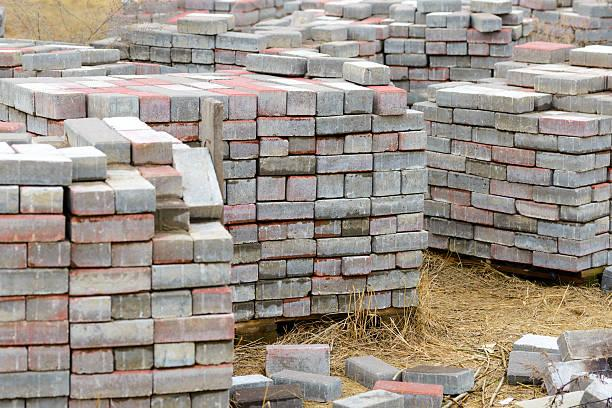Bricks: (171, 147, 220, 206), (79, 125, 131, 166), (68, 325, 154, 349), (152, 319, 235, 343), (120, 126, 173, 163), (75, 374, 154, 398), (71, 217, 153, 240), (71, 269, 151, 291), (153, 266, 232, 288), (5, 215, 66, 242), (1, 269, 68, 293), (1, 374, 70, 397), (269, 351, 330, 377), (0, 322, 71, 344), (0, 163, 70, 185), (35, 90, 85, 120), (438, 91, 523, 108), (149, 288, 197, 318), (86, 94, 139, 118), (22, 295, 73, 319), (68, 296, 111, 324), (542, 114, 612, 131), (64, 113, 111, 138), (154, 372, 227, 388), (310, 218, 370, 237), (72, 189, 115, 215), (559, 94, 612, 115), (23, 186, 64, 213), (72, 245, 112, 270), (116, 186, 154, 212), (182, 219, 229, 240), (171, 95, 203, 125), (319, 200, 372, 218), (571, 45, 612, 68), (256, 170, 285, 202), (31, 346, 69, 370), (71, 153, 106, 179), (214, 79, 279, 93), (71, 353, 116, 373), (130, 82, 190, 97), (111, 295, 150, 318), (197, 238, 232, 263), (540, 220, 607, 233), (514, 199, 557, 219), (455, 140, 492, 163), (230, 94, 260, 122), (114, 242, 150, 265), (197, 292, 231, 316), (155, 209, 189, 233), (138, 98, 172, 122), (156, 238, 193, 260), (251, 80, 309, 94), (515, 43, 562, 60), (318, 154, 371, 169), (348, 358, 384, 380), (537, 189, 589, 204), (32, 245, 69, 266), (116, 349, 152, 370), (373, 157, 420, 173), (255, 91, 286, 115), (494, 145, 533, 164), (452, 203, 495, 220), (260, 155, 316, 168), (373, 199, 425, 213), (28, 53, 80, 67), (264, 205, 312, 220), (510, 165, 546, 185), (538, 153, 593, 166), (311, 277, 362, 291), (256, 285, 315, 297), (249, 56, 296, 71), (320, 116, 370, 130), (262, 120, 315, 133), (535, 78, 578, 94), (424, 26, 467, 42), (563, 135, 612, 149), (147, 178, 183, 197), (223, 118, 259, 137), (518, 131, 556, 149), (432, 184, 468, 203), (155, 347, 195, 364), (472, 125, 512, 142), (451, 107, 496, 122), (110, 175, 152, 191), (451, 174, 490, 191), (427, 155, 471, 170), (498, 113, 539, 129), (450, 240, 488, 257), (431, 218, 474, 233), (517, 234, 557, 250), (163, 83, 226, 93), (289, 92, 314, 117), (2, 245, 26, 271), (472, 192, 511, 208), (316, 90, 343, 113), (265, 227, 312, 240), (372, 217, 419, 230), (507, 66, 537, 86), (498, 215, 535, 231), (317, 241, 374, 251), (377, 236, 424, 248), (198, 344, 231, 361), (561, 208, 612, 219), (477, 226, 510, 243), (340, 294, 368, 314), (134, 30, 169, 46), (535, 256, 585, 267), (306, 59, 348, 72), (0, 349, 27, 369), (15, 85, 35, 112), (468, 164, 509, 177), (260, 139, 288, 158), (219, 35, 257, 49), (347, 93, 370, 116), (321, 175, 344, 198), (376, 91, 400, 113), (377, 117, 425, 128), (225, 161, 258, 177), (231, 180, 255, 202), (492, 245, 525, 261), (418, 0, 462, 12), (356, 67, 385, 85), (0, 186, 20, 212), (290, 178, 316, 198), (289, 135, 315, 155), (491, 182, 531, 195), (470, 29, 507, 43), (469, 0, 512, 12), (0, 301, 27, 320), (264, 242, 315, 252), (173, 33, 212, 46), (27, 117, 51, 138), (403, 173, 429, 192), (385, 55, 429, 66), (346, 175, 366, 199), (229, 227, 259, 243), (437, 124, 471, 138), (376, 176, 399, 196), (367, 290, 394, 307), (281, 300, 311, 315), (556, 171, 606, 180), (559, 239, 609, 248), (345, 136, 374, 151), (368, 278, 416, 287), (179, 22, 212, 35), (430, 55, 469, 66), (231, 246, 257, 262), (286, 256, 312, 272), (327, 43, 358, 56), (448, 70, 488, 80), (318, 262, 340, 280), (259, 302, 281, 320), (372, 255, 400, 269), (311, 298, 337, 313), (190, 206, 222, 218), (291, 83, 339, 91), (309, 27, 341, 39), (268, 31, 297, 44), (262, 262, 284, 279), (225, 208, 256, 220), (472, 56, 500, 69), (149, 45, 170, 62), (396, 252, 421, 266), (351, 28, 380, 40), (371, 136, 395, 150), (447, 13, 471, 27), (84, 52, 120, 61), (318, 138, 341, 152), (232, 302, 255, 316), (430, 134, 450, 150), (445, 41, 467, 55), (235, 285, 254, 301), (207, 86, 249, 93), (192, 49, 213, 63), (341, 261, 367, 272), (405, 38, 424, 53), (401, 139, 429, 149), (480, 17, 502, 29), (489, 43, 511, 55), (129, 46, 151, 58), (236, 270, 259, 281), (384, 39, 405, 51), (214, 50, 235, 62), (170, 48, 188, 61), (234, 145, 253, 157), (593, 187, 612, 199), (426, 13, 445, 25), (469, 43, 487, 55), (431, 171, 446, 185), (429, 203, 444, 217), (408, 72, 429, 82), (214, 20, 229, 33), (362, 41, 375, 56), (427, 42, 443, 54), (397, 293, 414, 304), (431, 70, 448, 81), (388, 66, 404, 76), (596, 153, 610, 164)
